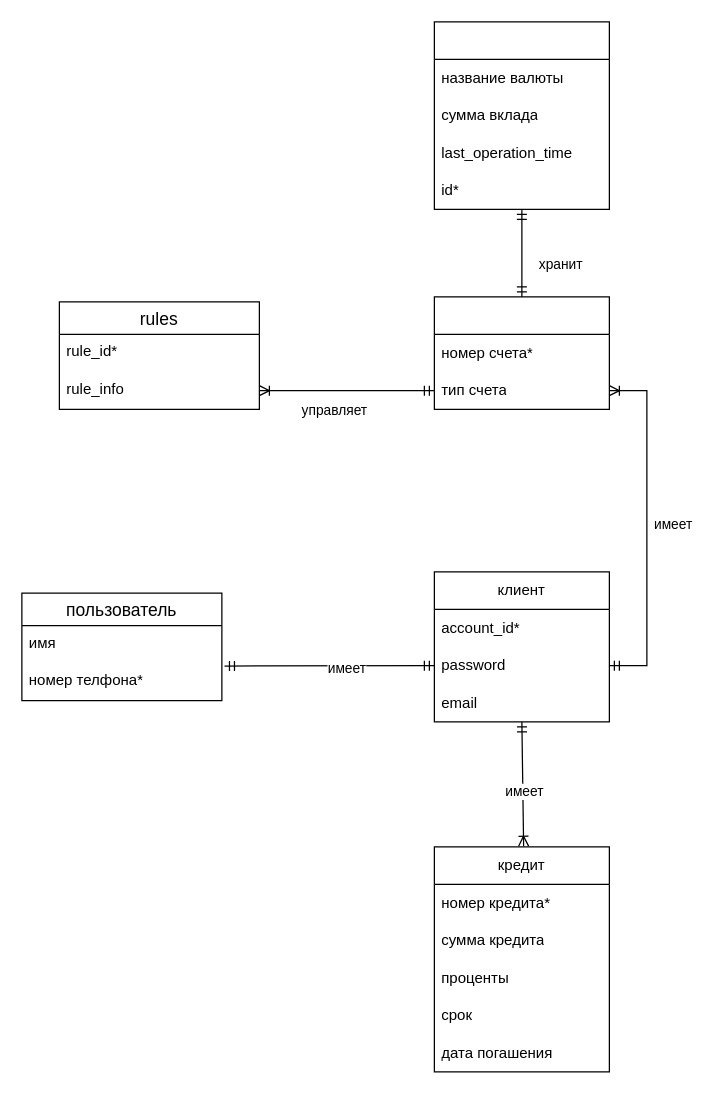
Image size: 714x1094. Some labels were removed from this diagram. Each missing label, with the box of its shape:
вклад_инфо: (433, 21, 609, 209)
счет/вклад: (433, 296, 609, 409)
